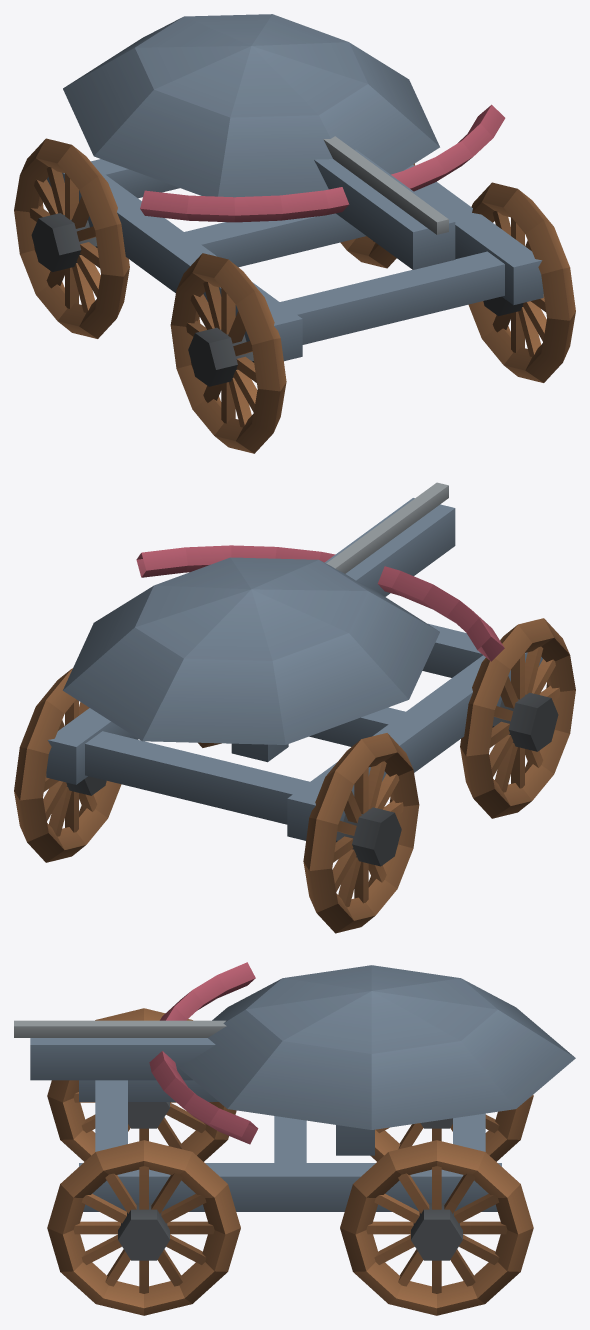
File: F__BALLI.glb
3 views of the same model, one above another, from view 1: azimuth 30°, elevation 25°; view 2: azimuth 150°, elevation 25°; view 3: azimuth 270°, elevation 25° (orthographic). The views are drawn at different scales.
Parts seen in each view (by area): view 1: Body, Wheel_0, Wheel_2, Wheel_1, Wheel_3; view 2: Body, Wheel_2, Wheel_0, Wheel_3; view 3: Body, Wheel_1, Wheel_3, Wheel_0, Wheel_2.
Part boxes in pixels (x1,y1,x2,y2): Body: (47,14,543,361); Wheel_0: (170,253,286,453); Wheel_2: (14,138,129,338); Wheel_1: (468,182,575,382); Wheel_3: (340,163,415,268); Body: (46,482,542,840); Wheel_2: (303,733,419,933); Wheel_0: (460,618,575,818); Wheel_3: (14,668,121,862); Body: (14,962,575,1211); Wheel_1: (47,1140,240,1315); Wheel_3: (340,1140,533,1315); Wheel_0: (47,1008,236,1161); Wheel_2: (370,1095,533,1161).
Size of the model in its own units: 1.22 by 0.878 by 1.73.
1 material, 1 textured.
